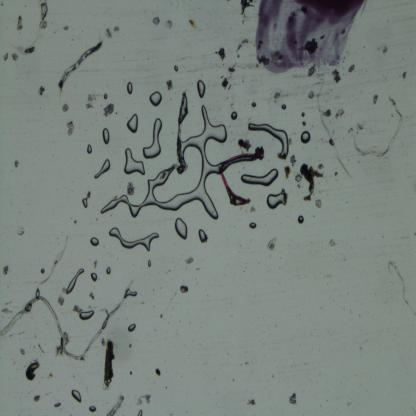Air bubble: (98, 104, 228, 223), (246, 121, 288, 160), (108, 226, 159, 251), (143, 118, 162, 158), (123, 147, 147, 176), (241, 169, 279, 187), (66, 267, 84, 294), (93, 159, 112, 179), (266, 193, 286, 210), (174, 217, 188, 240), (125, 112, 139, 135), (149, 90, 163, 106), (196, 79, 206, 99), (79, 309, 95, 321), (71, 387, 82, 404), (300, 130, 312, 144), (198, 229, 208, 245), (102, 127, 110, 146), (125, 288, 137, 298), (126, 82, 134, 96), (90, 236, 99, 247), (90, 272, 98, 284), (297, 213, 304, 226), (126, 323, 136, 332), (230, 110, 238, 121), (81, 197, 88, 209), (173, 62, 180, 72), (86, 144, 92, 155), (89, 405, 97, 413), (102, 90, 108, 100), (249, 222, 256, 230), (106, 266, 112, 275), (147, 258, 152, 268), (136, 409, 143, 416), (282, 103, 288, 111), (40, 266, 46, 274)
Background material: (296, 164, 326, 202), (100, 338, 115, 390), (25, 358, 39, 383), (235, 39, 252, 58), (83, 92, 97, 112), (238, 3, 256, 18), (14, 13, 26, 34), (238, 136, 250, 154), (64, 119, 76, 137), (374, 41, 390, 54), (225, 64, 242, 76), (106, 25, 120, 39), (102, 103, 115, 118), (136, 394, 152, 406), (298, 111, 308, 128), (55, 291, 66, 306), (152, 14, 162, 30), (0, 305, 13, 317), (325, 237, 338, 249), (216, 47, 227, 61), (332, 68, 342, 83), (267, 237, 276, 253), (246, 396, 258, 408), (16, 222, 26, 236), (126, 182, 136, 196), (314, 197, 324, 211), (289, 392, 298, 407), (334, 108, 345, 120), (182, 255, 195, 265), (179, 284, 189, 296), (2, 265, 10, 280), (36, 85, 46, 97), (221, 77, 229, 91), (272, 87, 280, 101), (152, 367, 162, 378), (188, 18, 197, 30), (61, 101, 70, 113), (36, 342, 45, 354), (164, 18, 173, 30), (290, 154, 297, 168), (284, 165, 291, 179), (167, 79, 175, 91), (99, 306, 108, 316), (2, 52, 10, 63), (12, 52, 20, 63), (73, 303, 81, 313), (308, 89, 314, 101), (18, 347, 26, 356), (349, 63, 356, 73), (92, 258, 98, 269), (250, 102, 258, 110), (34, 394, 40, 404), (13, 160, 20, 168), (63, 22, 70, 30), (402, 70, 408, 79), (159, 312, 164, 322), (54, 400, 61, 407), (332, 170, 338, 178), (249, 206, 255, 214), (195, 266, 201, 272), (88, 293, 94, 299), (87, 190, 91, 198), (244, 360, 250, 365), (129, 370, 133, 376), (48, 373, 52, 378), (128, 342, 132, 347), (141, 301, 145, 305), (8, 334, 13, 337), (165, 386, 168, 390), (74, 220, 76, 225)
Cellulose filter fibre: (0, 280, 137, 363), (316, 74, 354, 182), (352, 96, 403, 158), (32, 233, 69, 298), (58, 40, 104, 92), (17, 0, 54, 54), (387, 258, 416, 318), (175, 91, 186, 174), (106, 392, 125, 416)
Cotton: (216, 150, 262, 210)
Pen: (255, 0, 366, 71)
